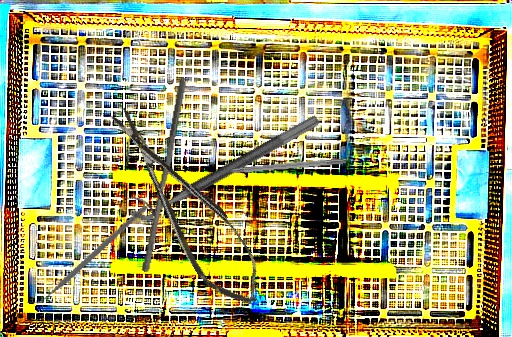Chopper: (25, 181, 149, 328)
Fixation Ring: (122, 98, 322, 228)
Hook Surgical: (213, 156, 347, 176)
Micro Scissor: (99, 92, 275, 320)
Pusher: (141, 75, 187, 274)
